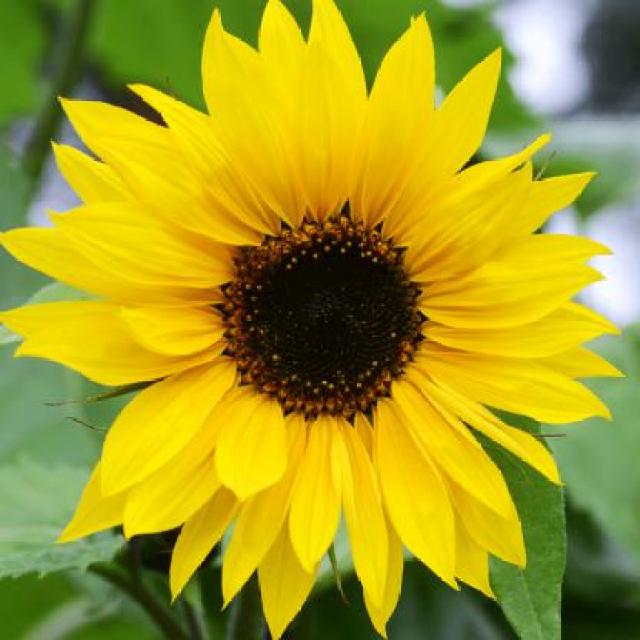sunflower: (2, 2, 610, 640)
